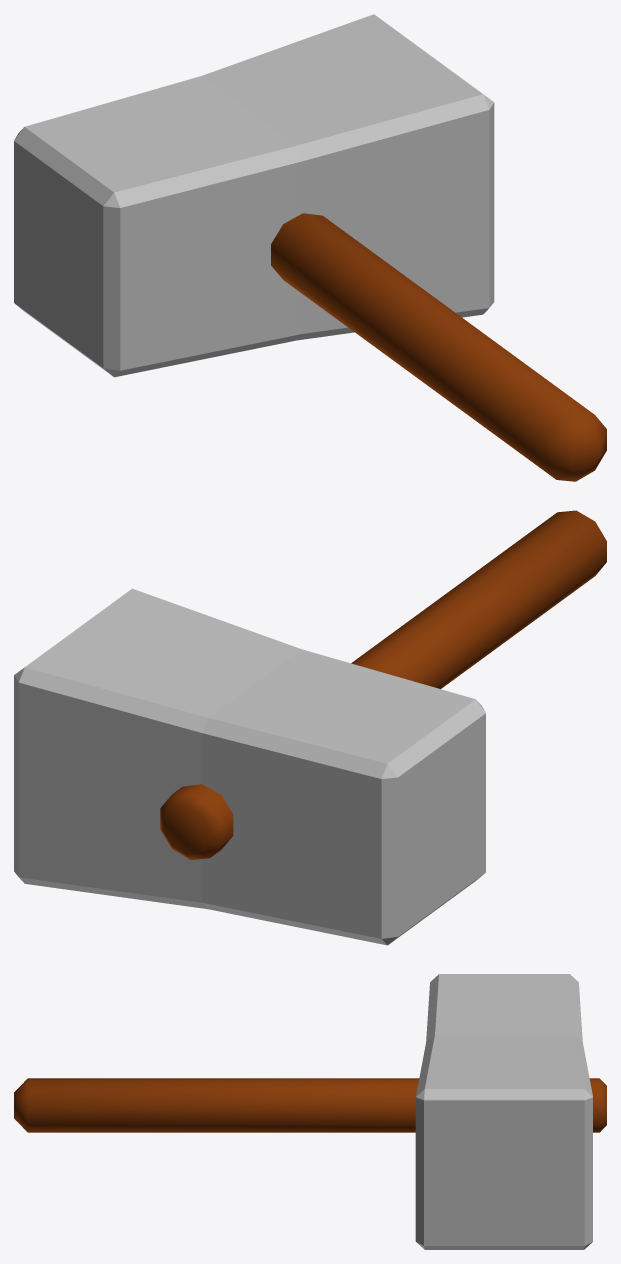
Rendered from Hammer_02.fbx.
The picture shows the model from 3 angles, top to bottom: view 1: azimuth 30°, elevation 25°; view 2: azimuth 150°, elevation 25°; view 3: azimuth 270°, elevation 25°; orthographic projection. The views are drawn at different scales.
Parts seen in each view (by area): view 1: Hammer_02; view 2: Hammer_02; view 3: Hammer_02.
Part boxes in pixels (left/top/right/bottom): Hammer_02: left=14, top=14, right=606, bottom=481; Hammer_02: left=14, top=510, right=606, bottom=945; Hammer_02: left=14, top=974, right=606, bottom=1249.
Size of the model in its own units: 60.94 by 33.72 by 113.
